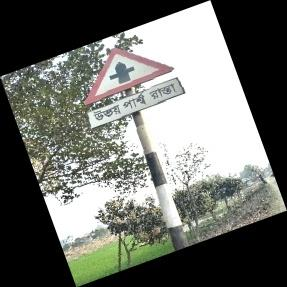Crossroad: (82, 46, 184, 131)
